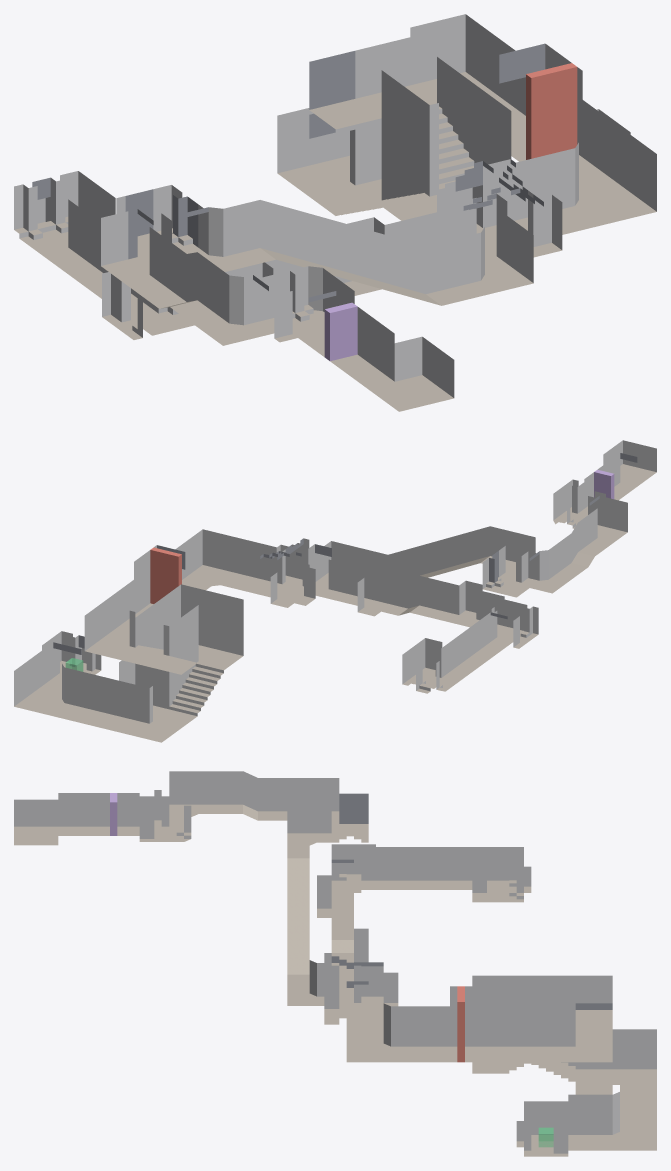
Rendered from outpost_05.glb.
3 views of the same model, one above another, from view 1: azimuth 30°, elevation 25°; view 2: azimuth 150°, elevation 25°; view 3: azimuth 270°, elevation 25° (orthographic). The views are drawn at different scales.
Visible parts, largest first — view 1: room:7, corridor:1, corridor:0, corridor:4, entities, corridor:6, room:6, room:1, corridor:2, room:5, corridor:5, room:4 (+11 smaller); view 2: room:7, corridor:1, corridor:6, corridor:2, corridor:0, corridor:4, entities, corridor:3, room:1, room:4, room:6, room:0 (+7 smaller); view 3: corridor:1, corridor:6, room:7, corridor:4, corridor:0, corridor:3, corridor:5, corridor:2, room:1, room:6, room:4, room:2 (+6 smaller).
Part boxes in pixels (x1,y1,x2,y2): room:7: (309, 37, 511, 220); corridor:1: (410, 14, 656, 234); corridor:0: (181, 200, 533, 305); corridor:4: (101, 209, 268, 345); entities: (324, 63, 577, 361); corridor:6: (277, 108, 524, 196); room:6: (367, 336, 454, 411); room:1: (437, 159, 562, 269); corridor:2: (173, 207, 458, 326); room:5: (253, 266, 354, 345); corridor:5: (308, 291, 394, 388); room:4: (19, 171, 115, 261); room:7: (119, 584, 243, 728); corridor:1: (84, 529, 270, 659); corridor:6: (14, 642, 180, 742); corridor:2: (319, 559, 504, 631); corridor:0: (315, 526, 535, 585); corridor:4: (529, 496, 627, 593); entities: (65, 469, 614, 671); corridor:3: (448, 612, 507, 677); room:1: (255, 538, 328, 605); room:4: (402, 638, 464, 691); room:6: (603, 440, 656, 486); room:0: (482, 546, 539, 597); corridor:1: (346, 986, 612, 1062); corridor:6: (568, 1029, 656, 1150); room:7: (472, 975, 612, 1094); corridor:4: (169, 771, 339, 823); corridor:0: (287, 799, 324, 1005); corridor:3: (376, 847, 472, 889); corridor:5: (58, 793, 139, 835); corridor:2: (317, 859, 368, 996); room:1: (324, 953, 383, 1024); room:6: (14, 799, 58, 845); room:4: (472, 847, 523, 902); room:2: (524, 1101, 568, 1156).
Bounding box in the file's own units: 72 × 24 × 87.
